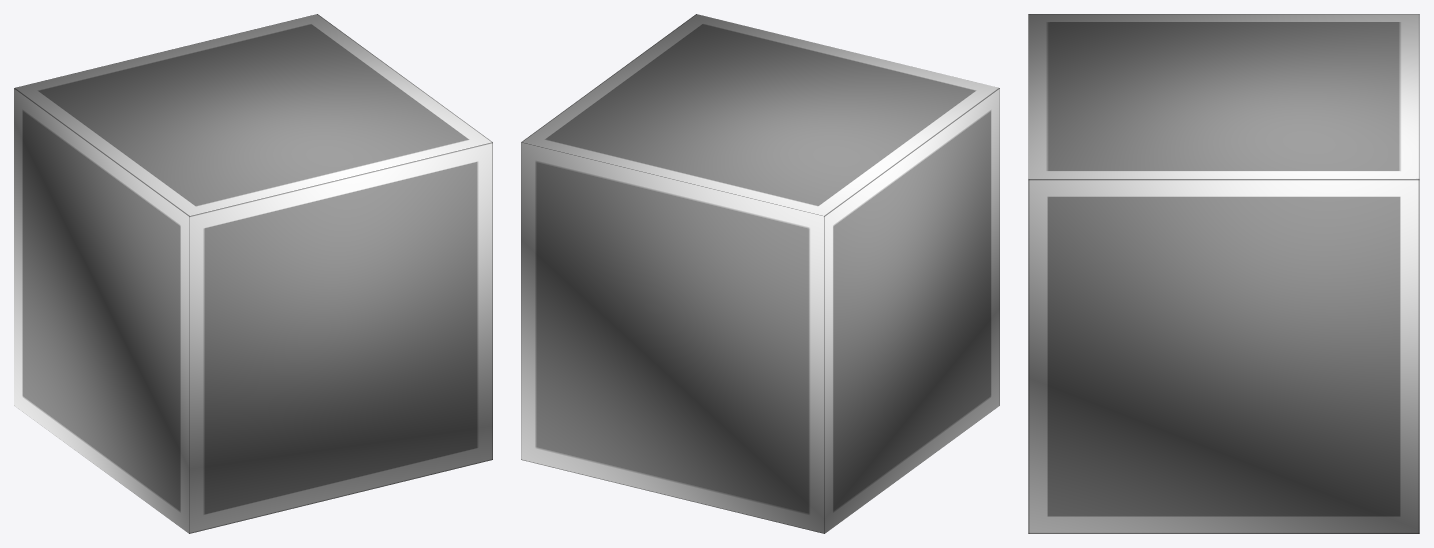
File: Cubes.fbx
3 renders of one model, left to right at view 1: azimuth 30°, elevation 25°; view 2: azimuth 150°, elevation 25°; view 3: azimuth 270°, elevation 25°, orthographic. The views are drawn at different scales.
Visible parts, largest first — view 1: Cube2_Cube Texture.001; view 2: Cube2_Cube Texture.001; view 3: Cube2_Cube Texture.001.
Part boxes in pixels (x1,y1,x2,y2): Cube2_Cube Texture.001: (14,14,492,533); Cube2_Cube Texture.001: (521,14,999,533); Cube2_Cube Texture.001: (1028,14,1419,533).
Size of the model in its own units: 200 by 200 by 200.
